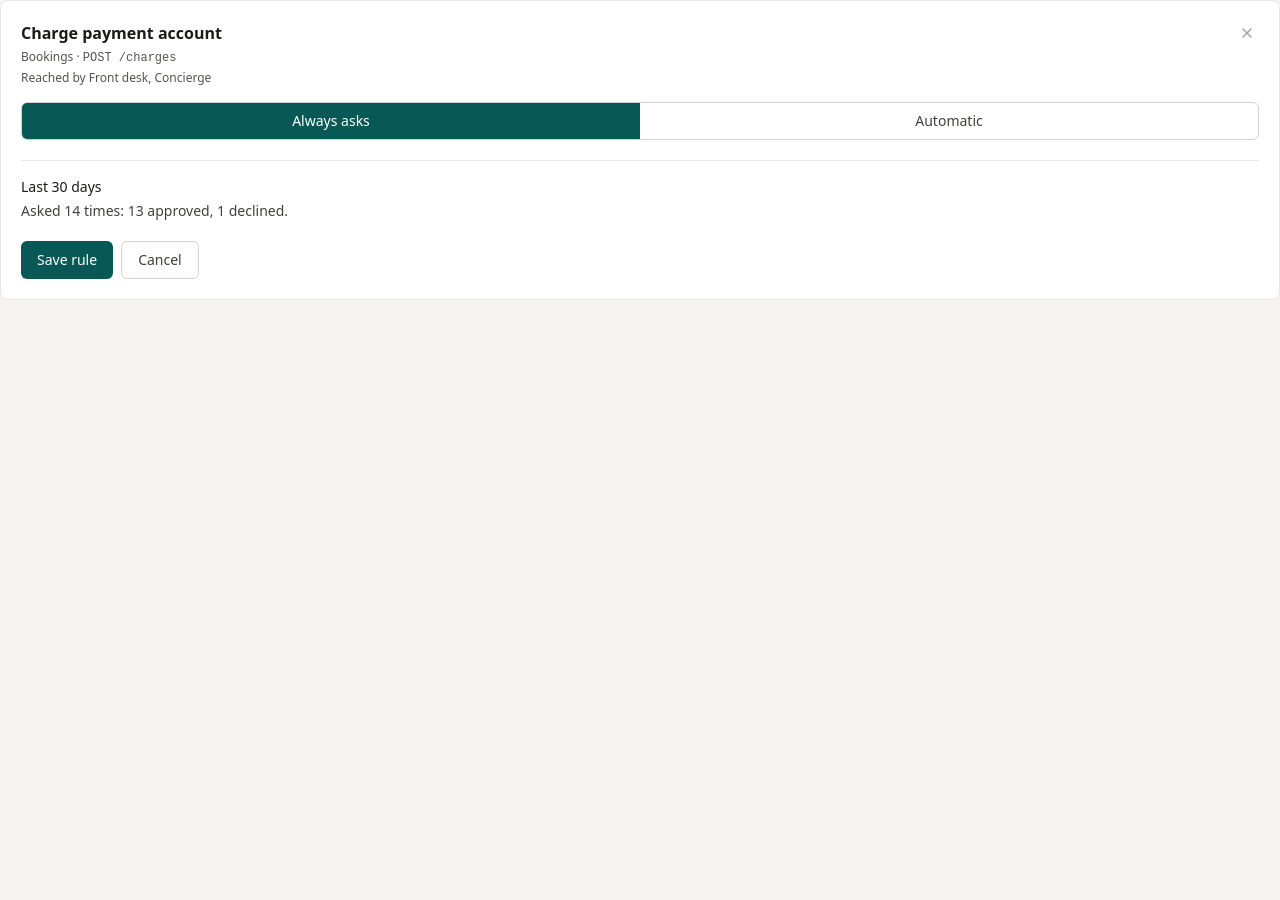
Test: ApprovalRulePanel › says why the API refused
Click the radio button labelled "Automatic". click: (949, 121)
box: [640, 103, 1258, 139]
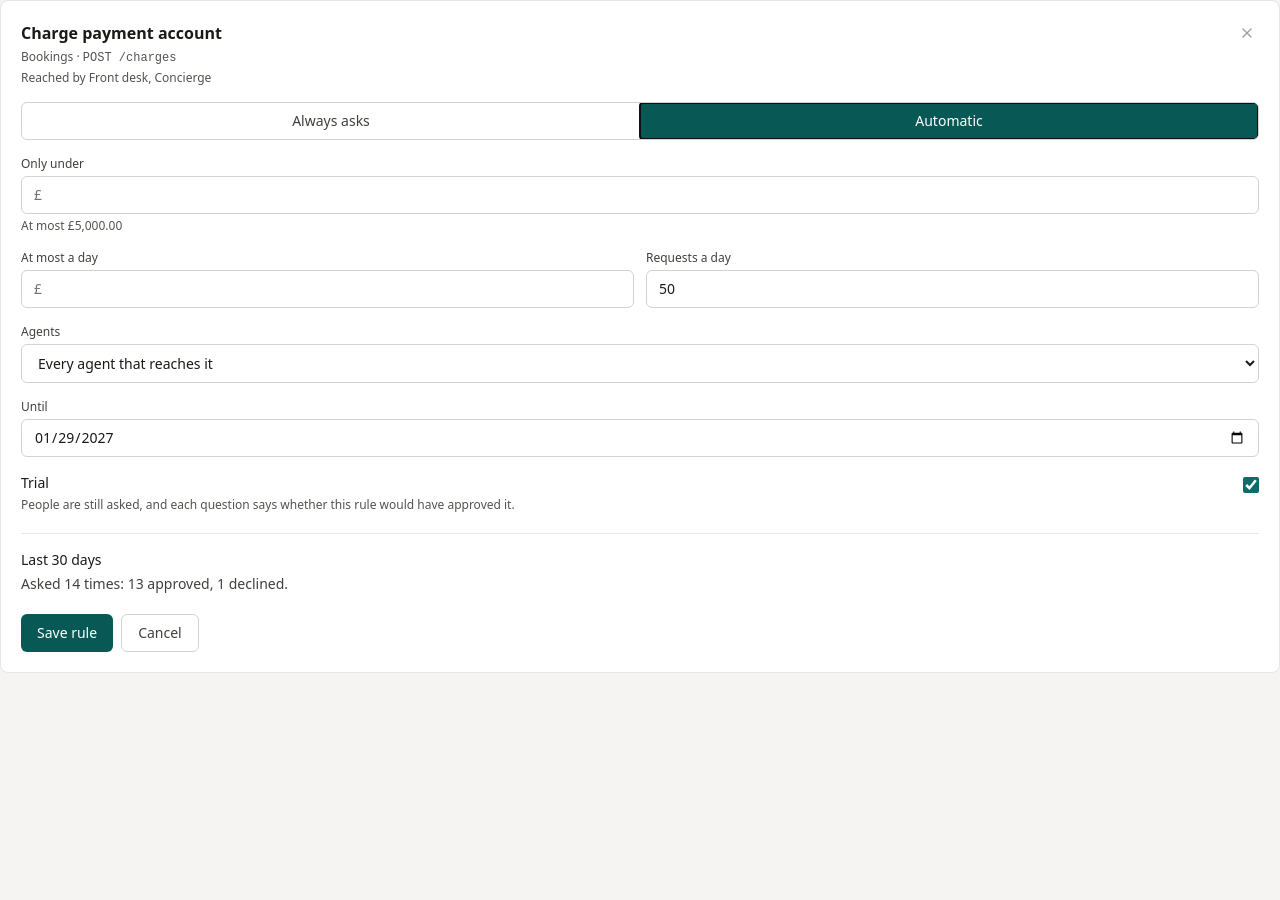
Type "300" into the field labelled "Only under". click: (650, 195)
box: [42, 177, 1258, 213]
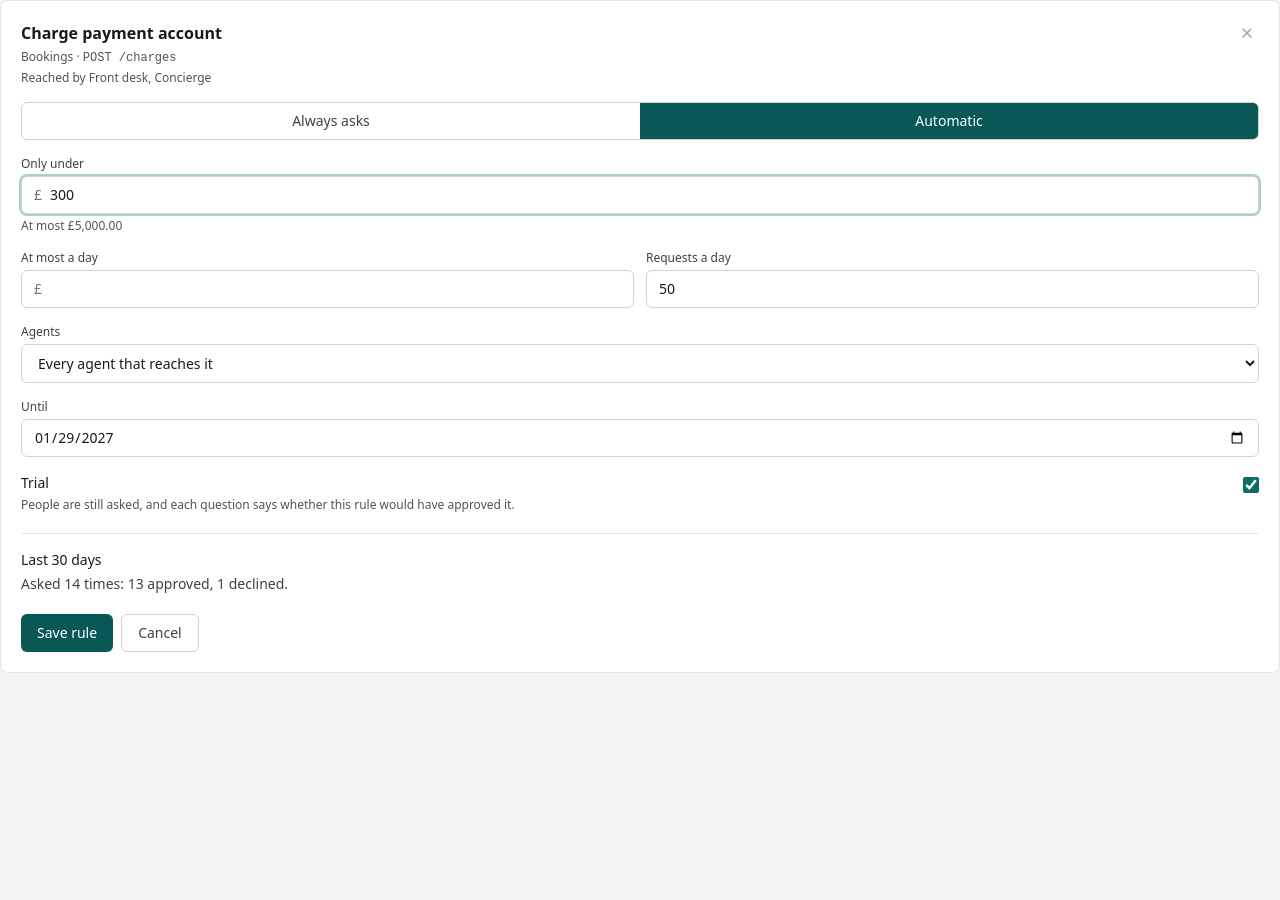
Click the button "Save rule". click: (67, 633)
box: [21, 614, 113, 652]
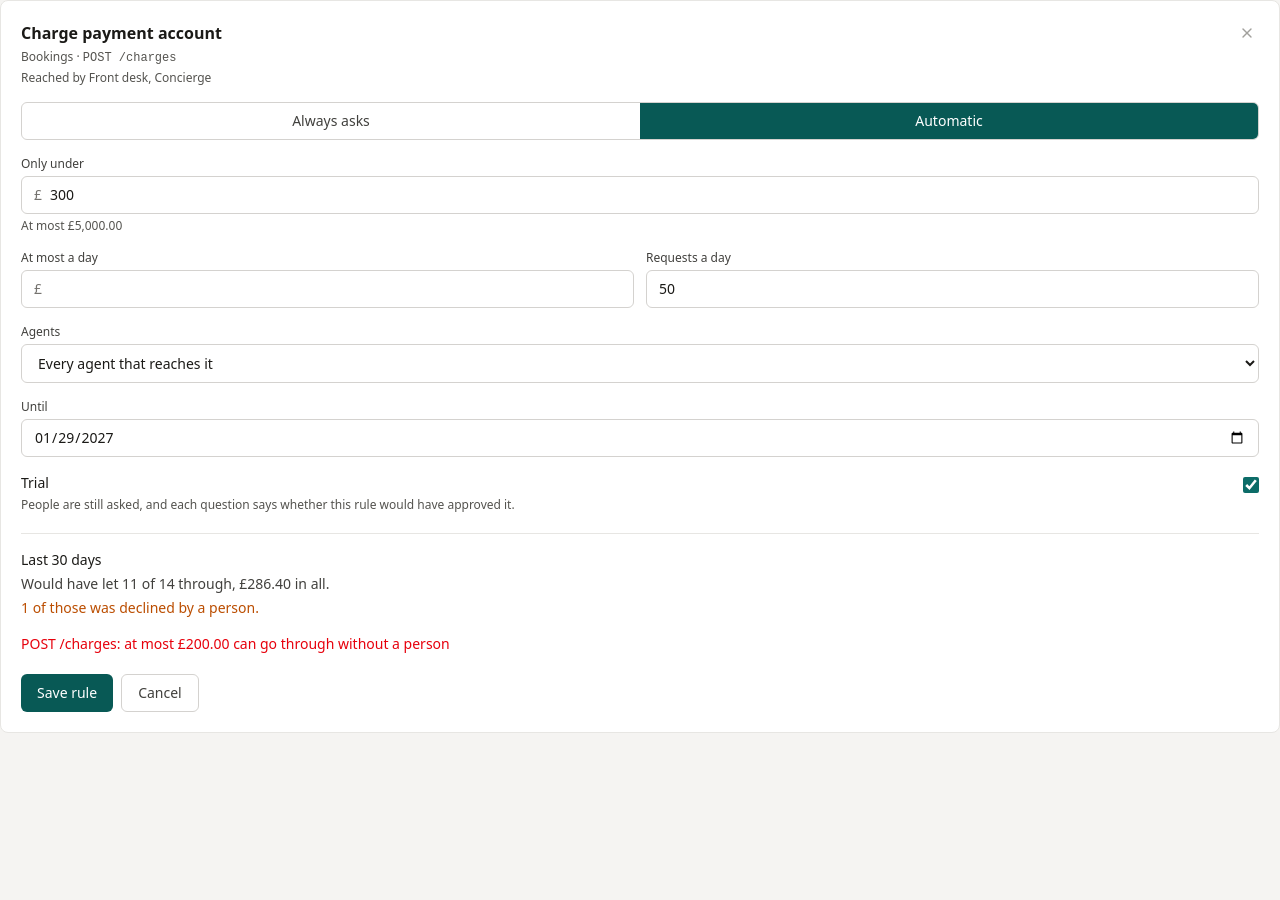
Expected: the message shows "at most £200.00", [21, 634, 450, 653]
